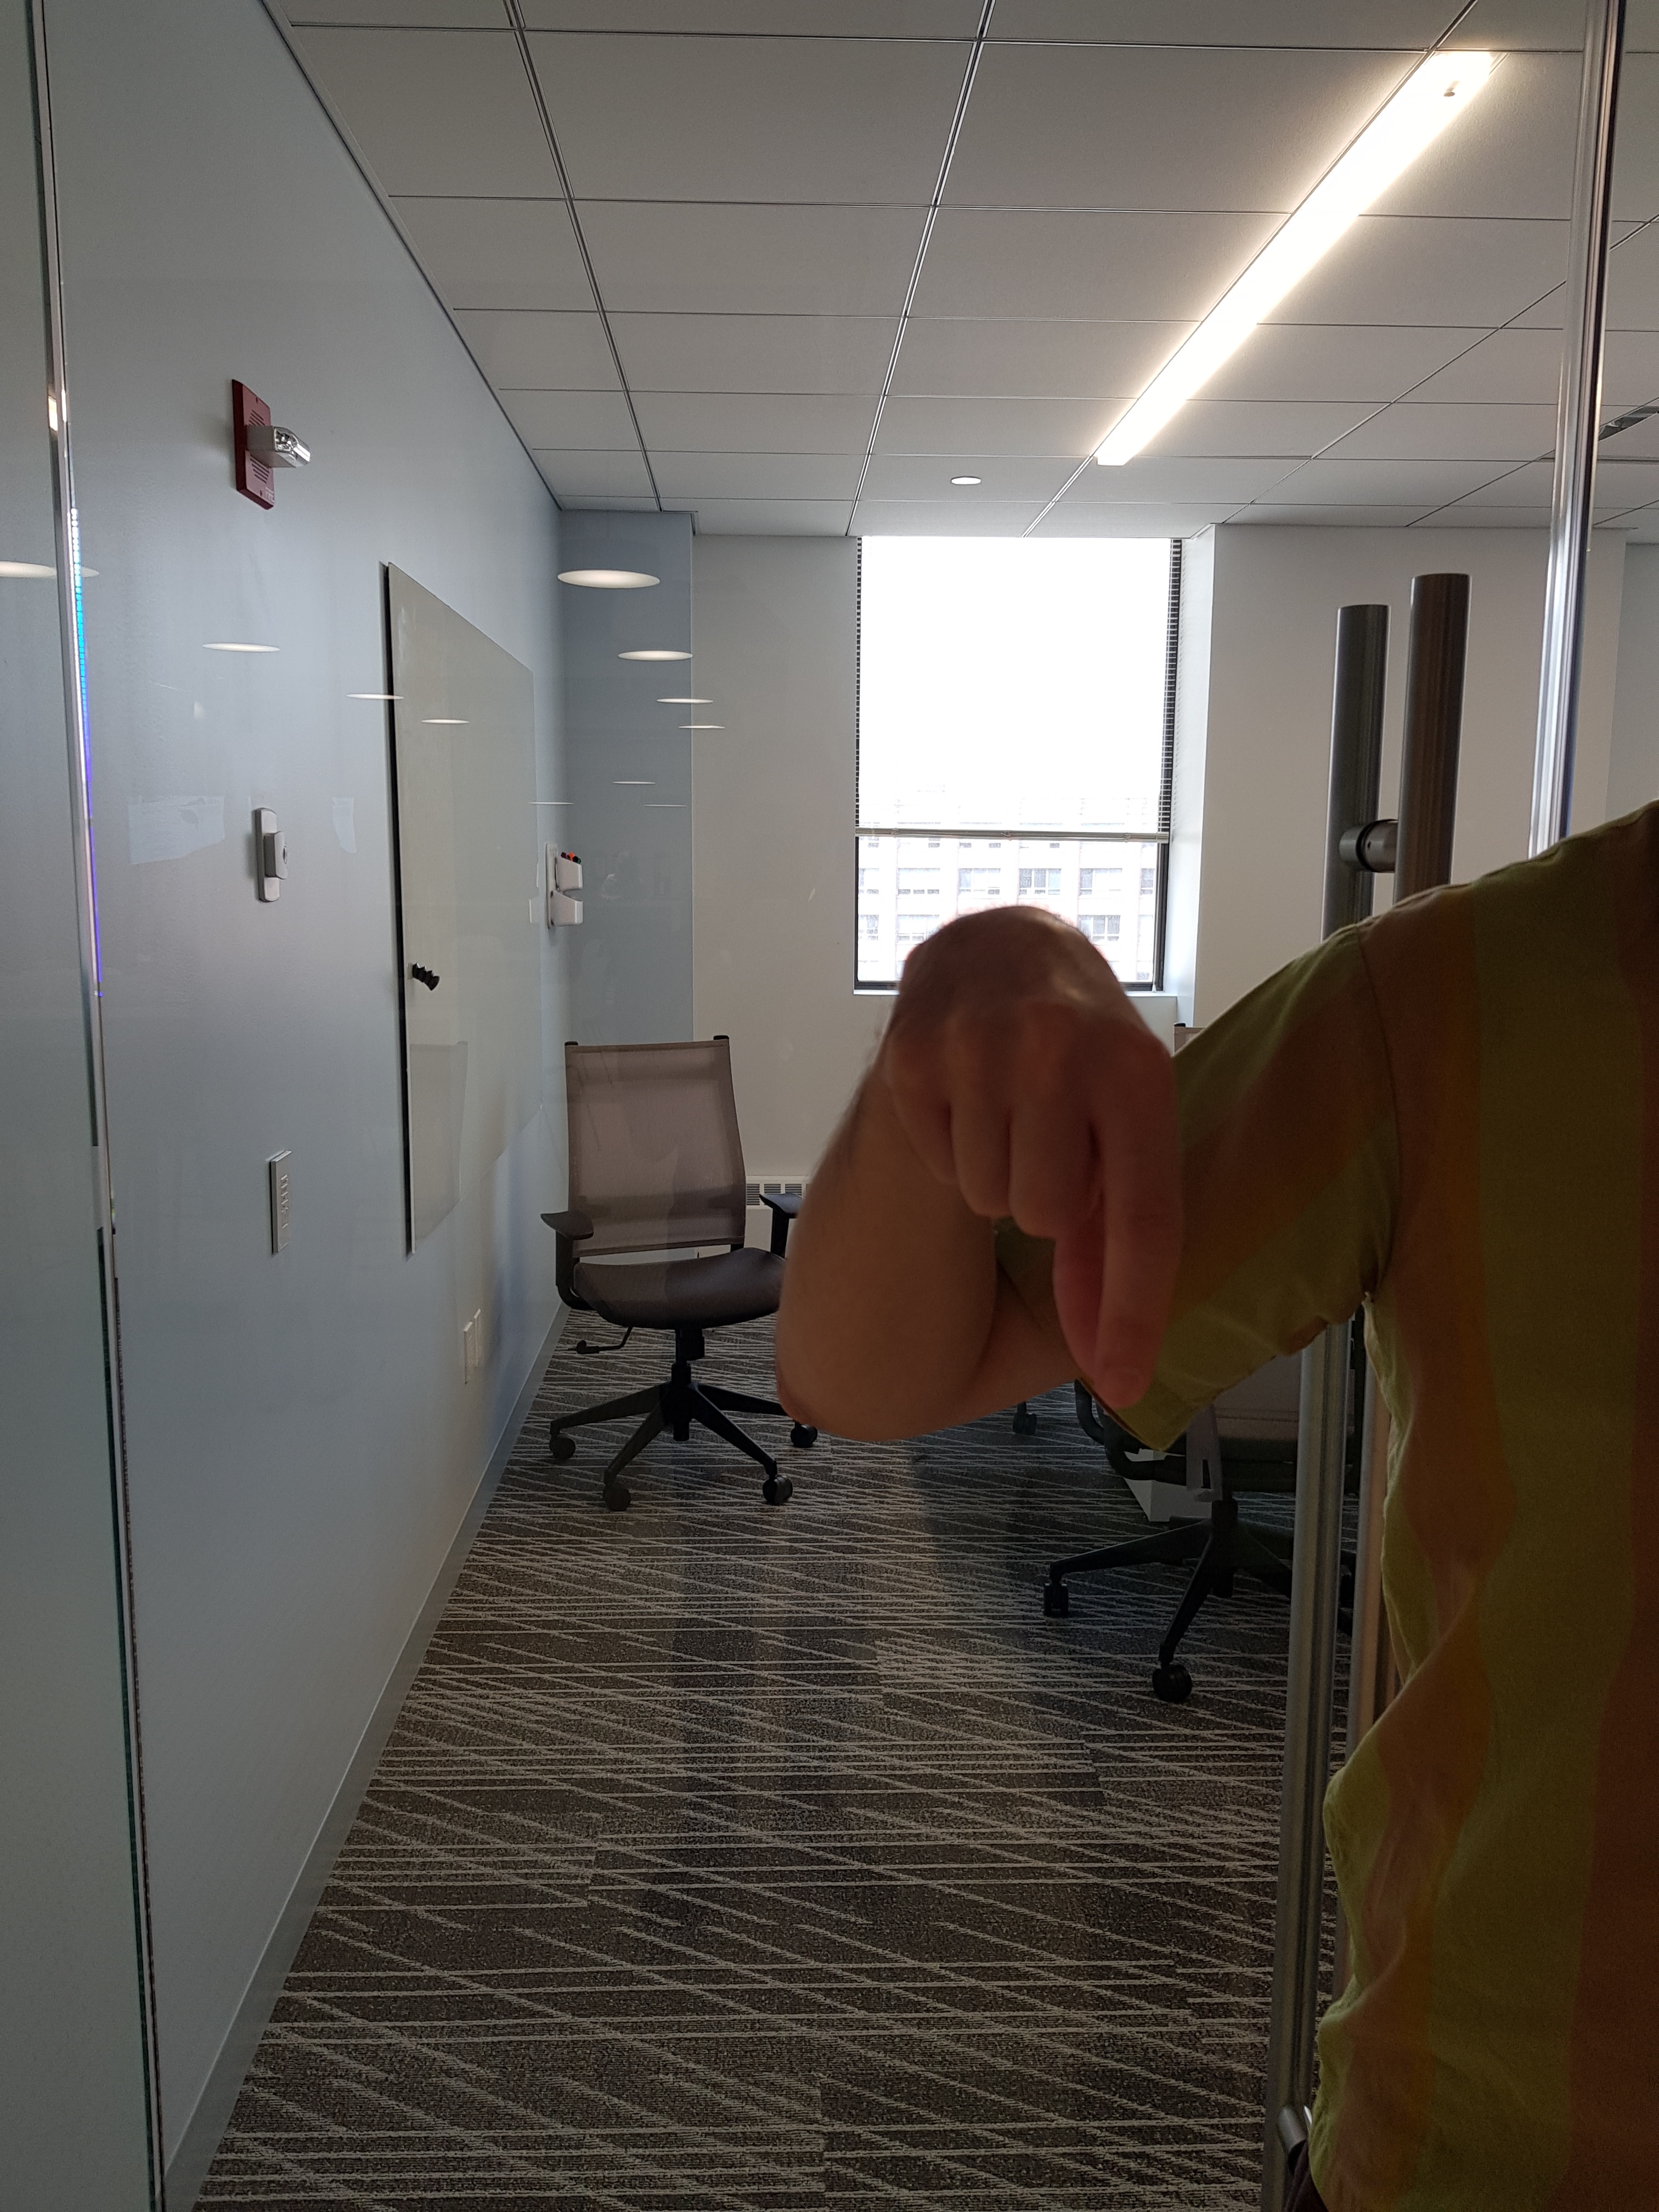q: (842, 866, 1216, 1440)
